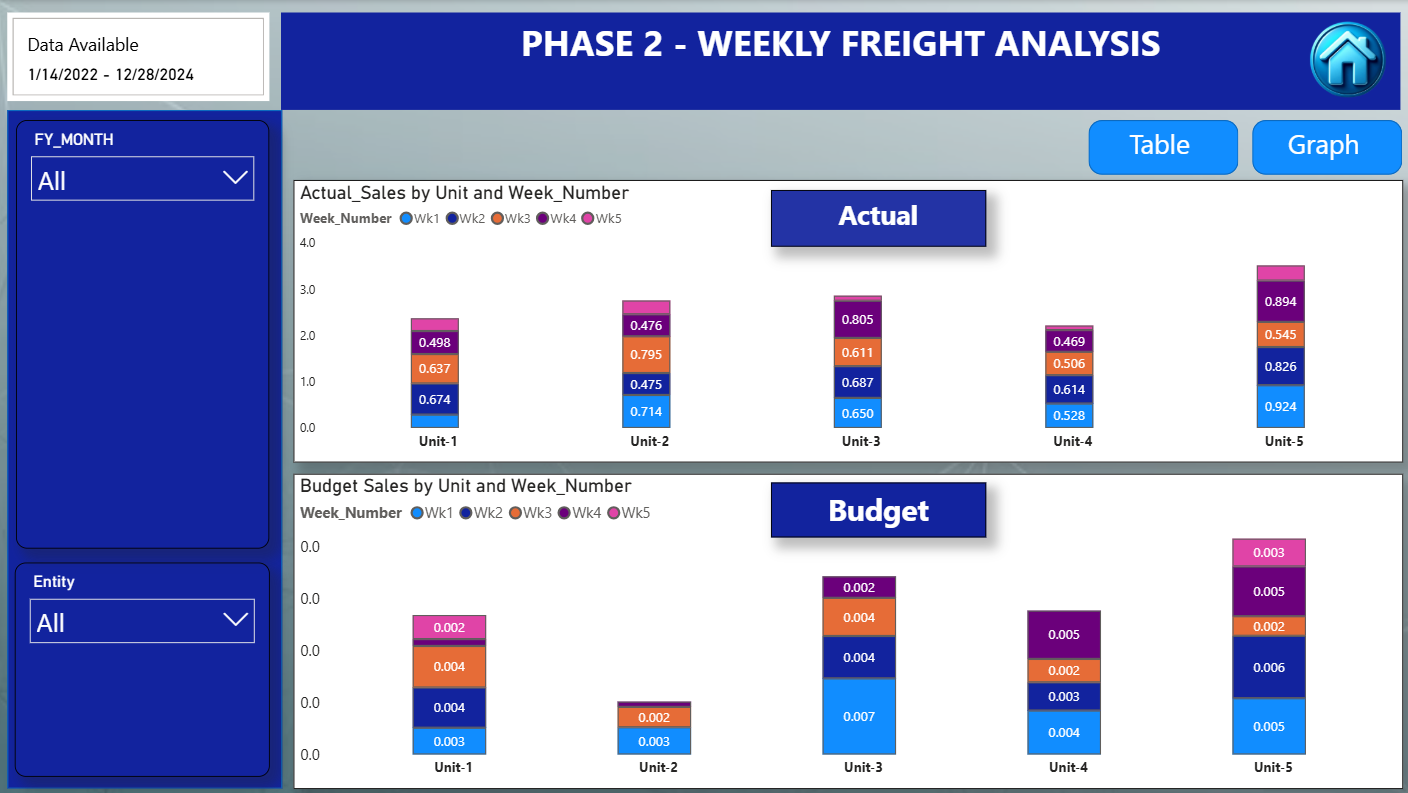

This screenshot's page, from the dashboard's own definition file:
{"tool":"powerbi","page":{"name":"Phase 2","canvas":[1280,720],"ordinal":4},"visuals":[{"type":"columnChart","fields":{"Category":["Fact-MasterNew.Unit"],"Series":["DimDate.Week Label"],"Y":["Measure.Actual Sales"]},"box":[268.7,162.6,1002.7,255.2],"z":0},{"type":"columnChart","fields":{"Category":["Fact-MasterNew.Unit"],"Series":["DimDate.Week Label"],"Y":["Measure.Budget Sales"]},"box":[268.7,427.9,1002.7,284.5],"z":1000},{"type":"shape","box":[10.2,98.8,248.4,613.1],"z":2000},{"type":"shape","box":[986.9,108.4,135.5,49.5],"z":2500,"group":"g2"},{"type":"shape","box":[1134.8,108.4,135.5,49.5],"z":2500,"group":"g3"},{"type":"slicer","fields":{"Values":["Entity.Entity"]},"box":[16.5,507.7,230.5,193.5],"z":3000},{"type":"slicer","fields":{"Values":["DimDate.FY MONTH"]},"box":[17.8,108.4,229.2,387],"z":4000},{"type":"textbox","box":[700.1,171.6,194.2,50.8],"z":5000},{"type":"textbox","box":[700.1,435.9,194.2,49.7],"z":6000},{"type":"textbox","box":[258,11,1011.3,87.8],"z":7000},{"type":"cardVisual","fields":{"Data":["DimDate.Data Available"]},"box":[10.2,11.3,237.1,80.2],"z":8000},{"type":"textbox","box":[1010.3,108.4,81.3,47.4],"z":8001,"group":"g2"},{"type":"textbox","box":[1158.2,108.4,81.3,47.4],"z":8001,"group":"g3"},{"type":"image","box":[1173.2,7.9,96,96],"z":9000},{"type":"group","id":"g1","title":"Group 6","box":[986.9,108.4,135.5,49.7],"z":10000},{"type":"group","id":"g2","title":"Group 2","box":[986.9,108.4,135.5,49.5],"z":10001,"group":"g4"},{"type":"group","id":"g3","title":"Group 2","box":[1134.8,108.4,135.5,49.5],"z":10001,"group":"g5"},{"type":"group","id":"g4","title":"Group 1","box":[986.9,108.4,135.5,49.5],"z":10002,"group":"g1"},{"type":"group","id":"g5","title":"Group 6","box":[1134.8,108.4,135.5,49.7],"z":11000}]}

Visuals, with their boxes in screenshot pixels (x1, y1, x2, y2), scaled from the page's 1280x720 canvas onto the 1408x793 screenshot:
columnChart - Fact-MasterNew.Unit x DimDate.Week Label: x1=296, y1=179, x2=1399, y2=460
columnChart - Fact-MasterNew.Unit x DimDate.Week Label: x1=296, y1=471, x2=1399, y2=785
shape: x1=11, y1=109, x2=284, y2=784
shape: x1=1086, y1=119, x2=1235, y2=174
shape: x1=1248, y1=119, x2=1397, y2=174
slicer - Entity.Entity: x1=18, y1=559, x2=272, y2=772
slicer - DimDate.FY MONTH: x1=20, y1=119, x2=272, y2=546
textbox: x1=770, y1=189, x2=984, y2=245
textbox: x1=770, y1=480, x2=984, y2=535
textbox: x1=284, y1=12, x2=1396, y2=109
cardVisual - DimDate.Data Available: x1=11, y1=12, x2=272, y2=101
textbox: x1=1111, y1=119, x2=1201, y2=172
textbox: x1=1274, y1=119, x2=1363, y2=172
image: x1=1291, y1=9, x2=1396, y2=114
"Group 6" group: x1=1086, y1=119, x2=1235, y2=174
"Group 2" group: x1=1086, y1=119, x2=1235, y2=174
"Group 2" group: x1=1248, y1=119, x2=1397, y2=174
"Group 1" group: x1=1086, y1=119, x2=1235, y2=174
"Group 6" group: x1=1248, y1=119, x2=1397, y2=174
